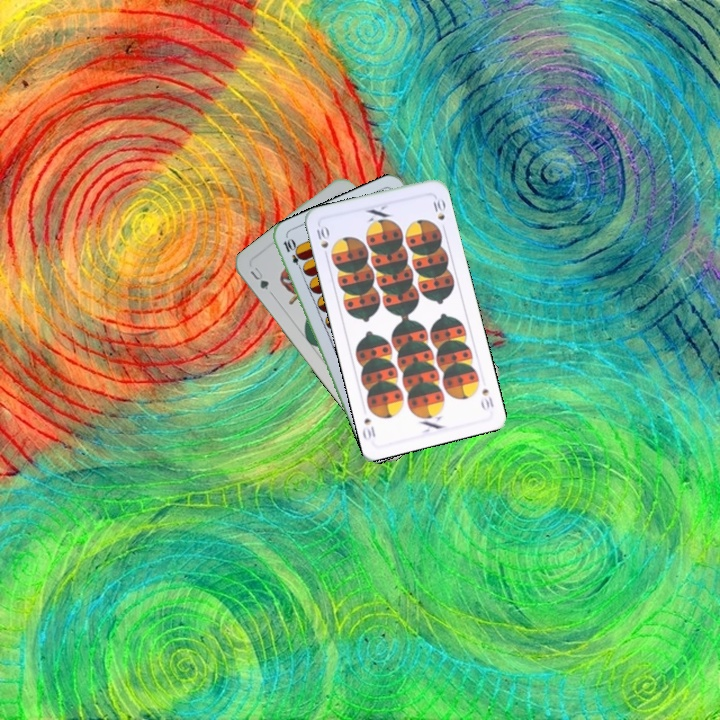E10: (279, 235, 306, 274)
GU: (246, 263, 271, 293)
S10: (312, 222, 332, 261), (477, 384, 496, 413)
